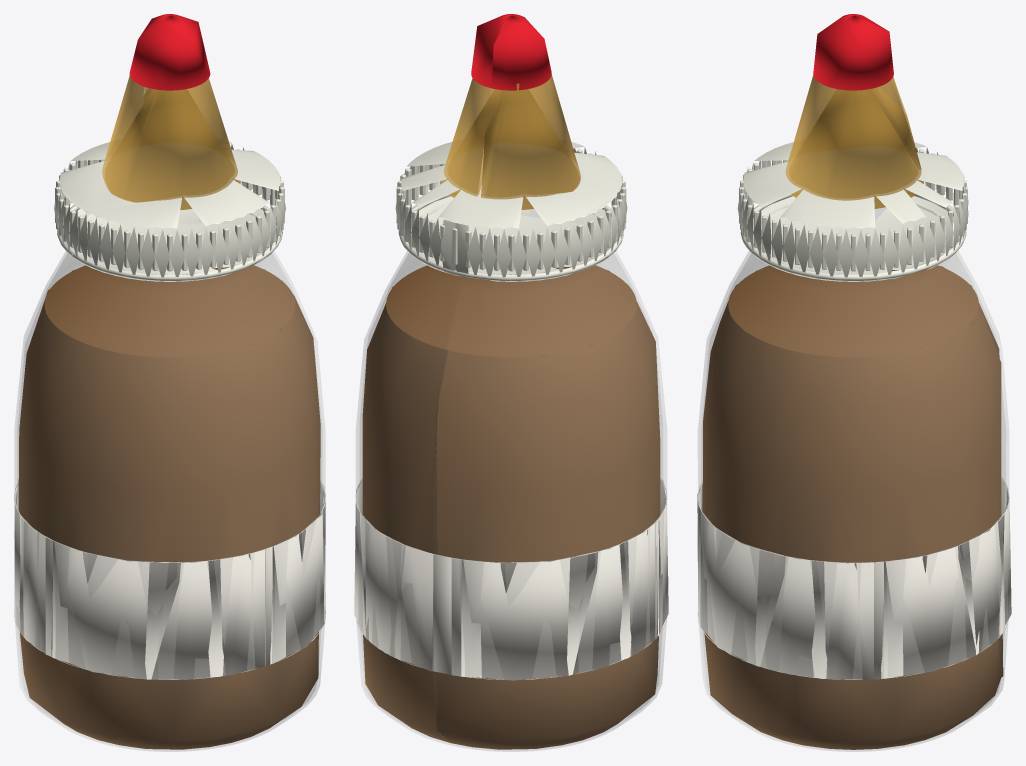
The picture shows the model from 3 angles, left to right: view 1: azimuth 30°, elevation 25°; view 2: azimuth 150°, elevation 25°; view 3: azimuth 270°, elevation 25°; orthographic projection.
Parts seen in each view (by area): view 1: thin shell with corrected shoulder, separate contents, lower paper band, removable closure, amber tapered nozzle, short protective tip, closure lower bead; view 2: thin shell with corrected shoulder, separate contents, lower paper band, removable closure, amber tapered nozzle, short protective tip, closure lower bead; view 3: thin shell with corrected shoulder, separate contents, lower paper band, removable closure, amber tapered nozzle, short protective tip, closure lower bead.
Part boxes in pixels (x1,y1,x2,y2): thin shell with corrected shoulder: (14,212,325,751); separate contents: (18,265,320,749); lower paper band: (14,479,325,679); removable closure: (54,142,285,281); amber tapered nozzle: (102,75,240,209); short protective tip: (129,14,210,90); closure lower bead: (57,204,282,280); thin shell with corrected shoulder: (356,202,666,751); separate contents: (362,265,660,749); lower paper band: (354,478,668,680); removable closure: (395,141,627,281); amber tapered nozzle: (441,74,580,209); short protective tip: (471,14,551,90); closure lower bead: (398,194,623,280); thin shell with corrected shoulder: (698,202,1008,751); separate contents: (702,265,1003,749); lower paper band: (697,477,1011,680); removable closure: (737,142,968,281); amber tapered nozzle: (785,75,923,208); short protective tip: (813,14,893,90); closure lower bead: (740,194,966,280).
Bounding box in the file's own units: 0.0683 × 0.1647 × 0.0687.
6 materials, 1 textured.
